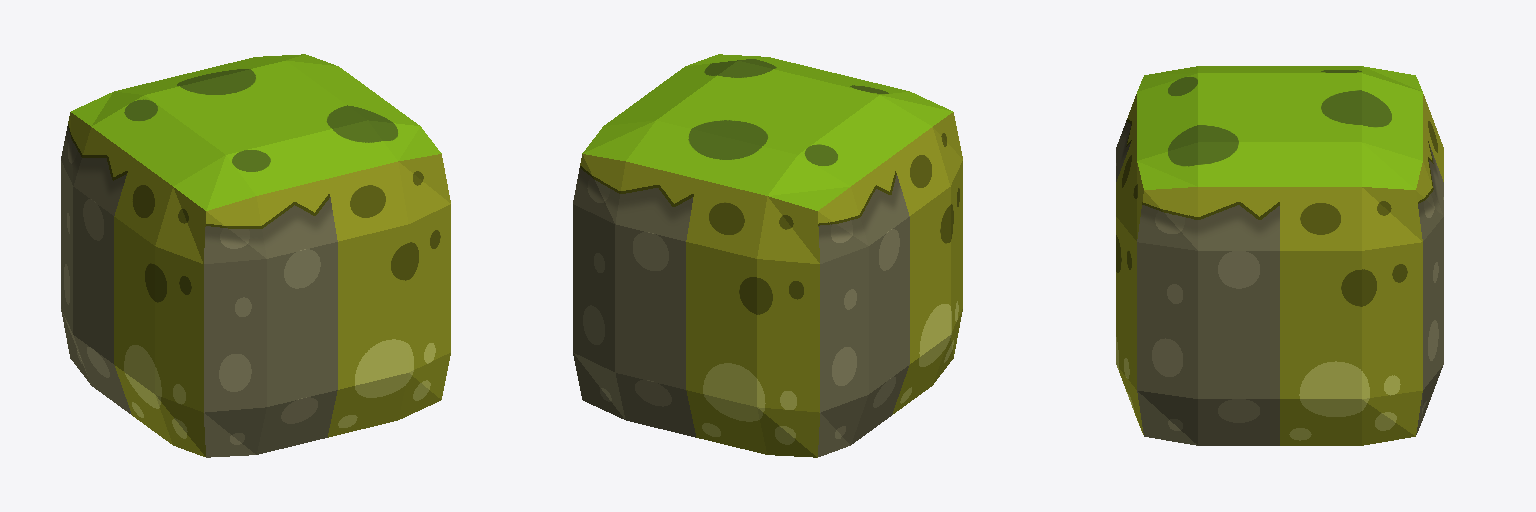
3 views of the same model, side by side, from view 1: azimuth 30°, elevation 25°; view 2: azimuth 150°, elevation 25°; view 3: azimuth 270°, elevation 25° (orthographic).
Parts seen in each view (by area): view 1: Cube.004; view 2: Cube.004; view 3: Cube.004.
Boxes of the visible parts, x1=… form: Cube.004: x1=61, y1=54, x2=450, y2=457; Cube.004: x1=573, y1=54, x2=962, y2=457; Cube.004: x1=1116, y1=66, x2=1443, y2=445.
Bounding box in the file's own units: 64 × 64 × 64.
3 materials, 3 textured.